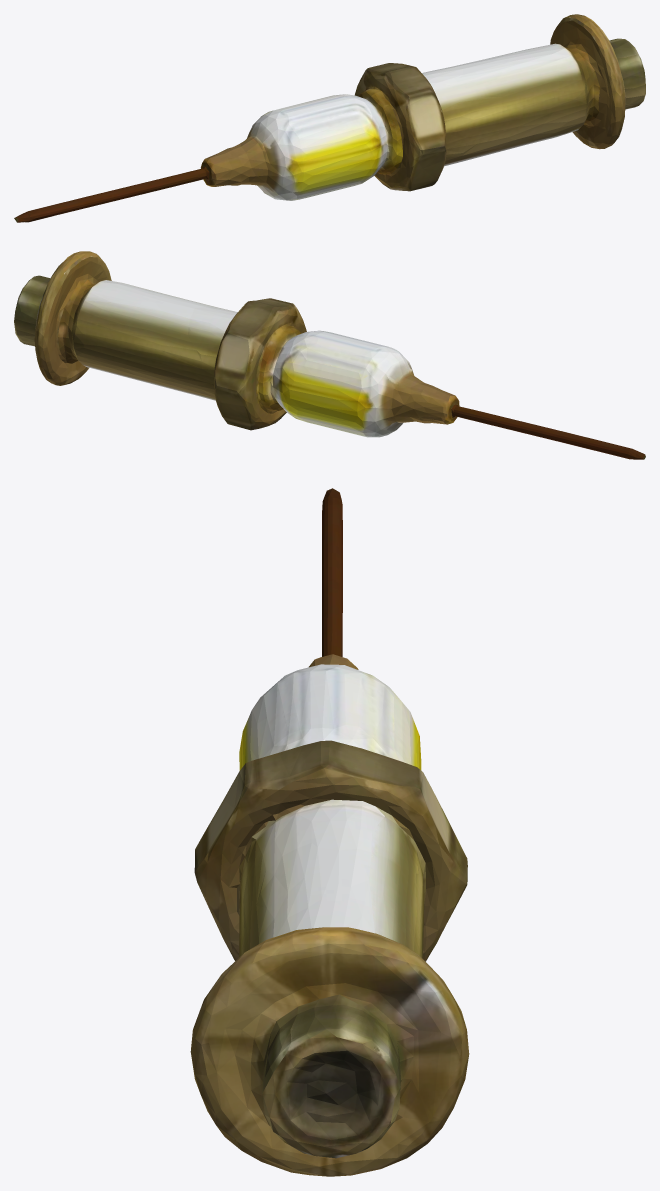
The model's file is injector.glb.
3 renders of one model, top to bottom at view 1: azimuth 30°, elevation 25°; view 2: azimuth 150°, elevation 25°; view 3: azimuth 270°, elevation 25°, orthographic. The views are drawn at different scales.
Visible parts, largest first — view 1: injector; view 2: injector; view 3: injector.
Boxes of the visible parts, box(x1,y1,x2,y2) form: injector: box(14, 14, 645, 222); injector: box(14, 251, 645, 459); injector: box(190, 488, 469, 1176).
Size of the model in its own units: 0.38 by 0.0731 by 0.0744.
1 material, 1 textured.
